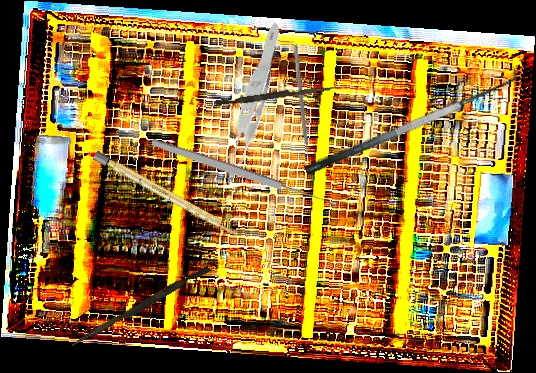Pusher: (70, 262, 211, 352), (215, 81, 337, 109)
Scalpel Handle: (92, 150, 240, 238)
Spatula Surgical: (296, 60, 524, 178), (288, 44, 312, 163)
Surgical Spoon: (150, 136, 338, 211)
Tissue Forceps: (170, 21, 330, 178)
